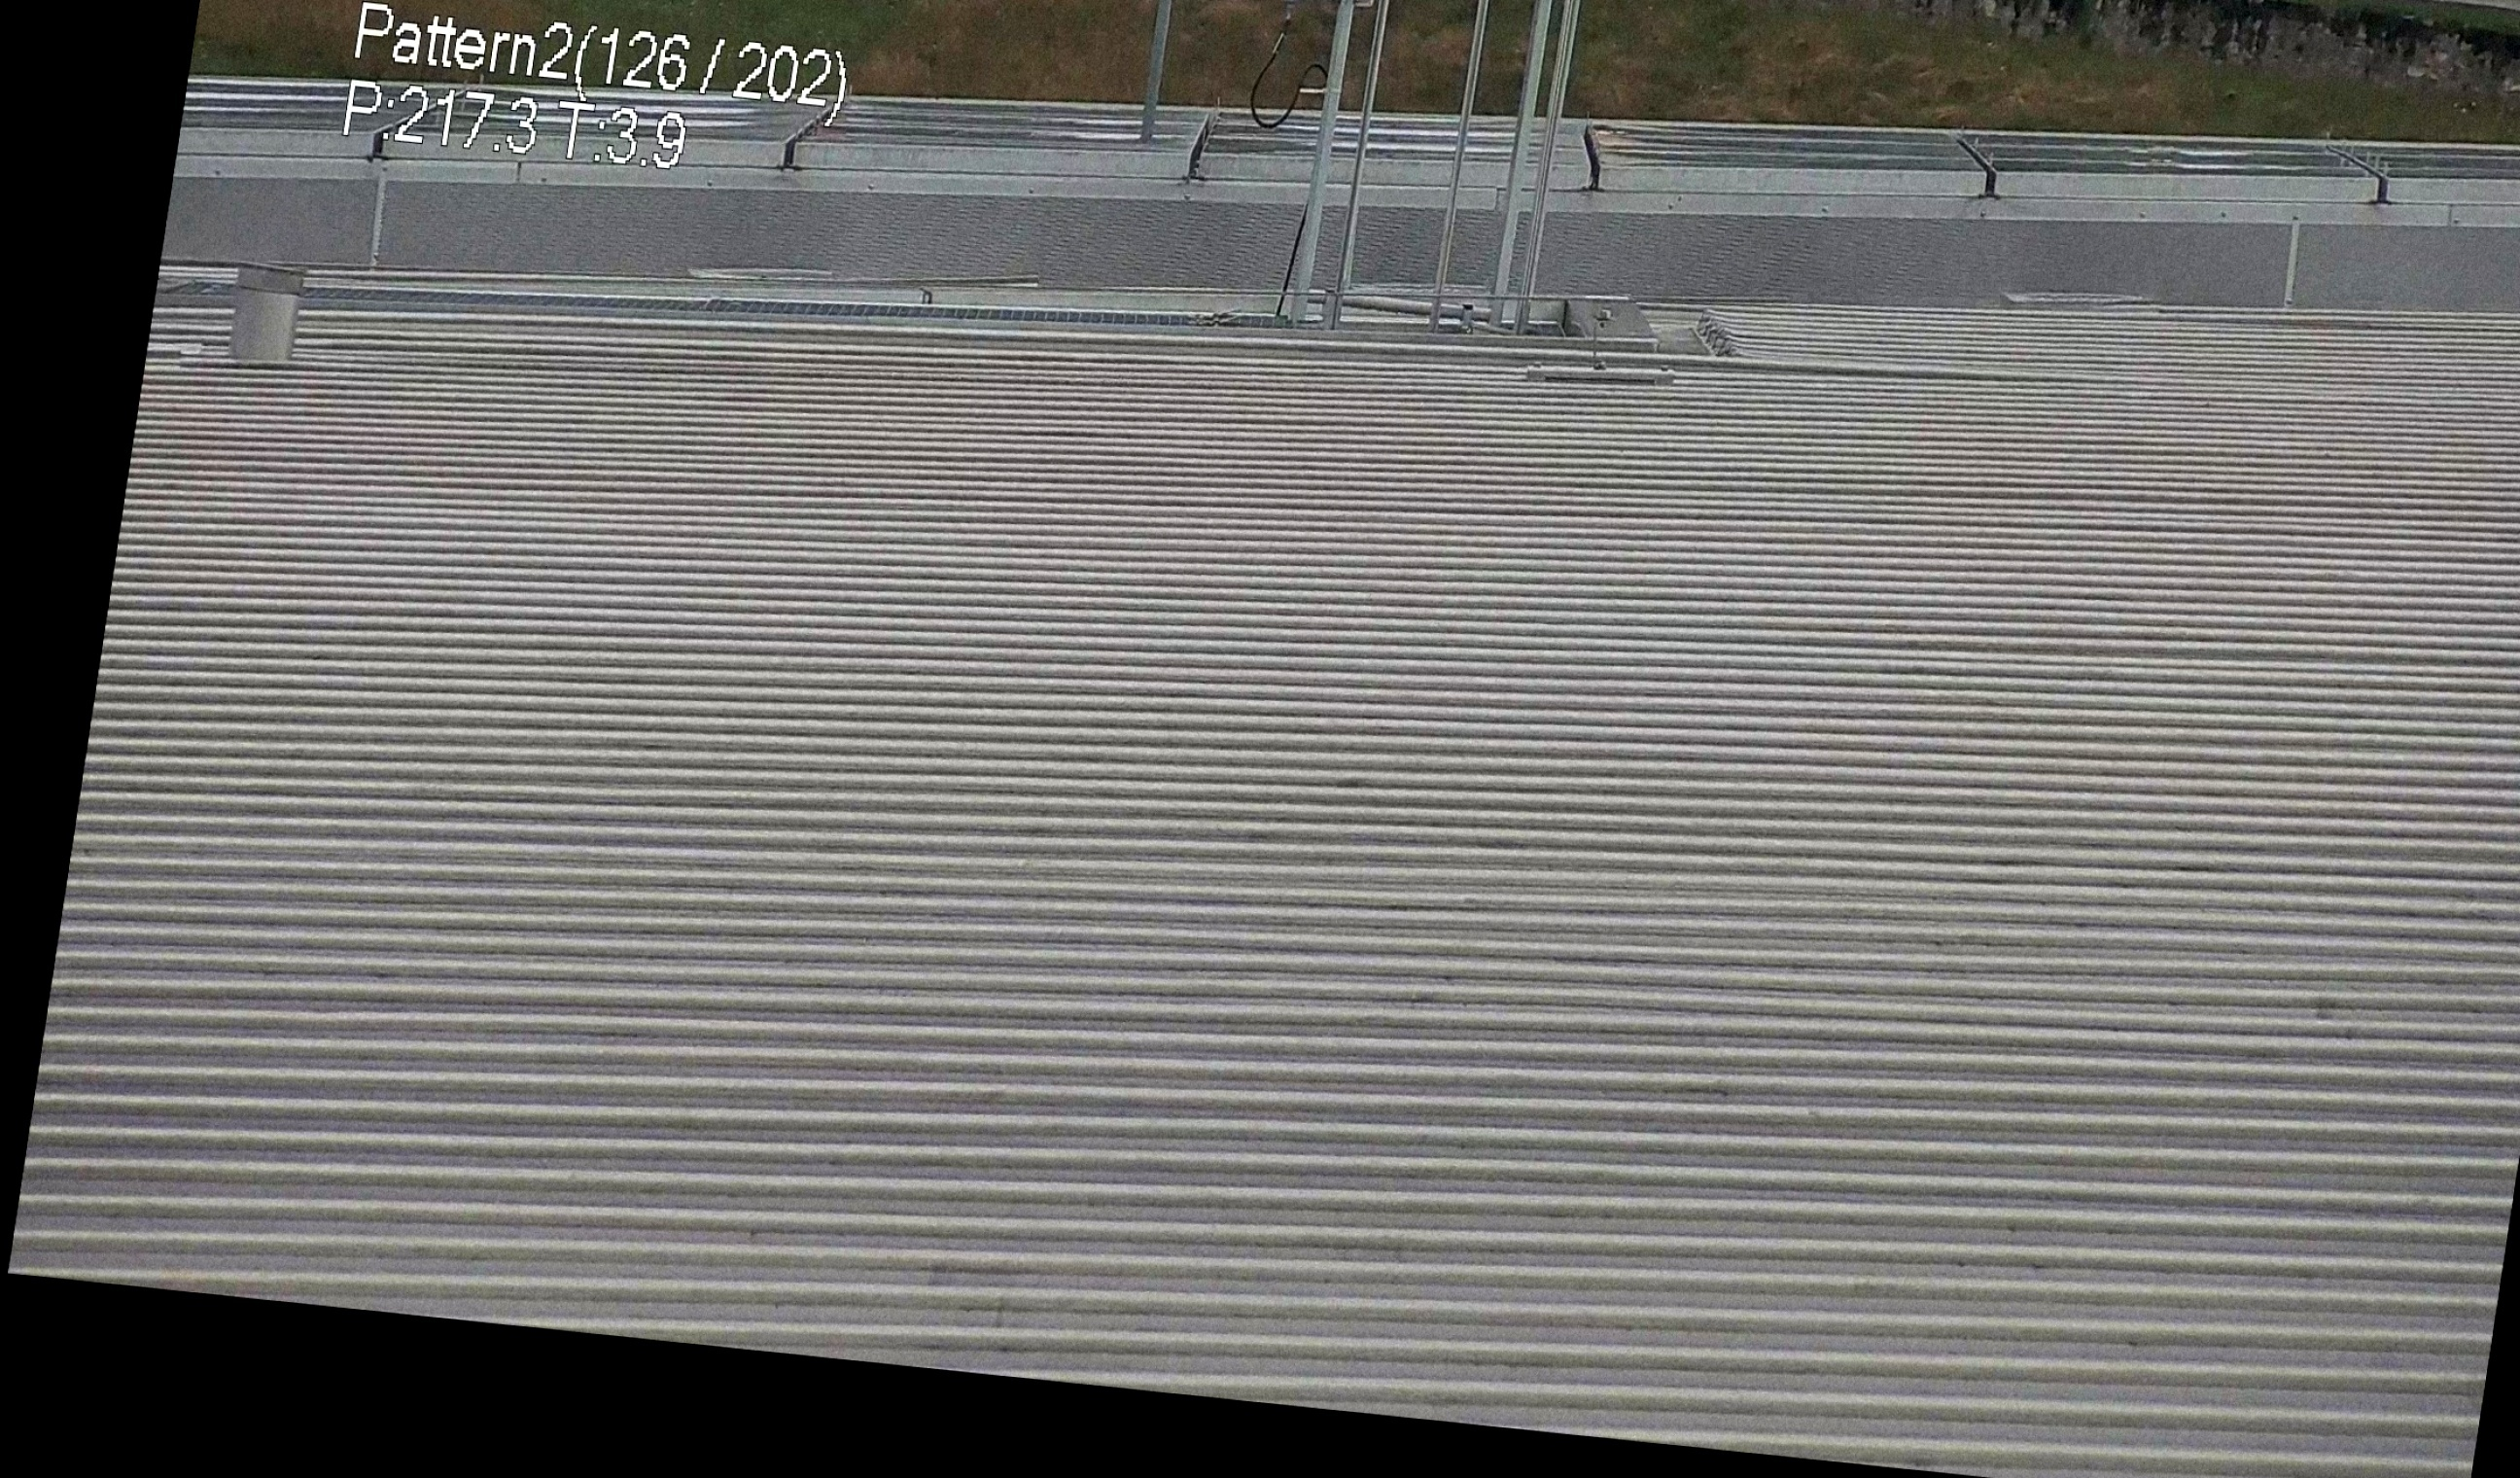Other: (1229, 0, 1363, 143)
